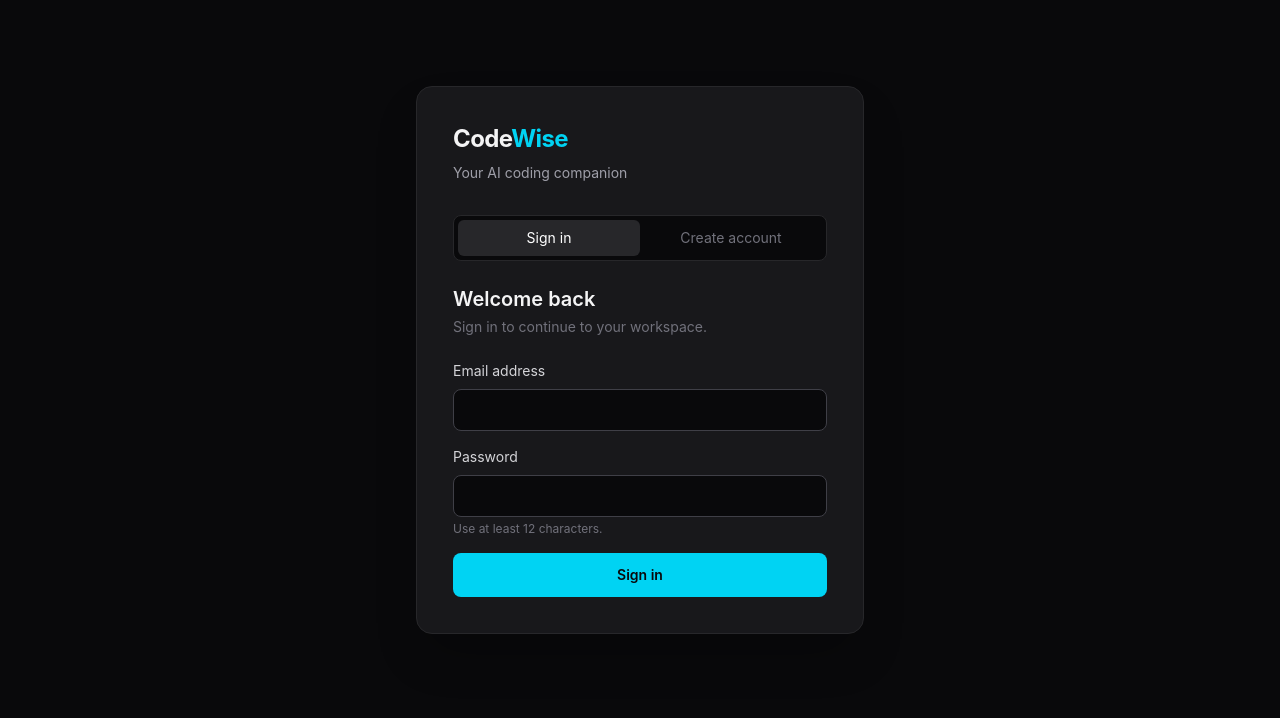
Test case: CodeWise analysis flow › creates an account and only displays analysis after signup succeeds
Click the button "Create account" at [731, 238], box [640, 220, 822, 256]
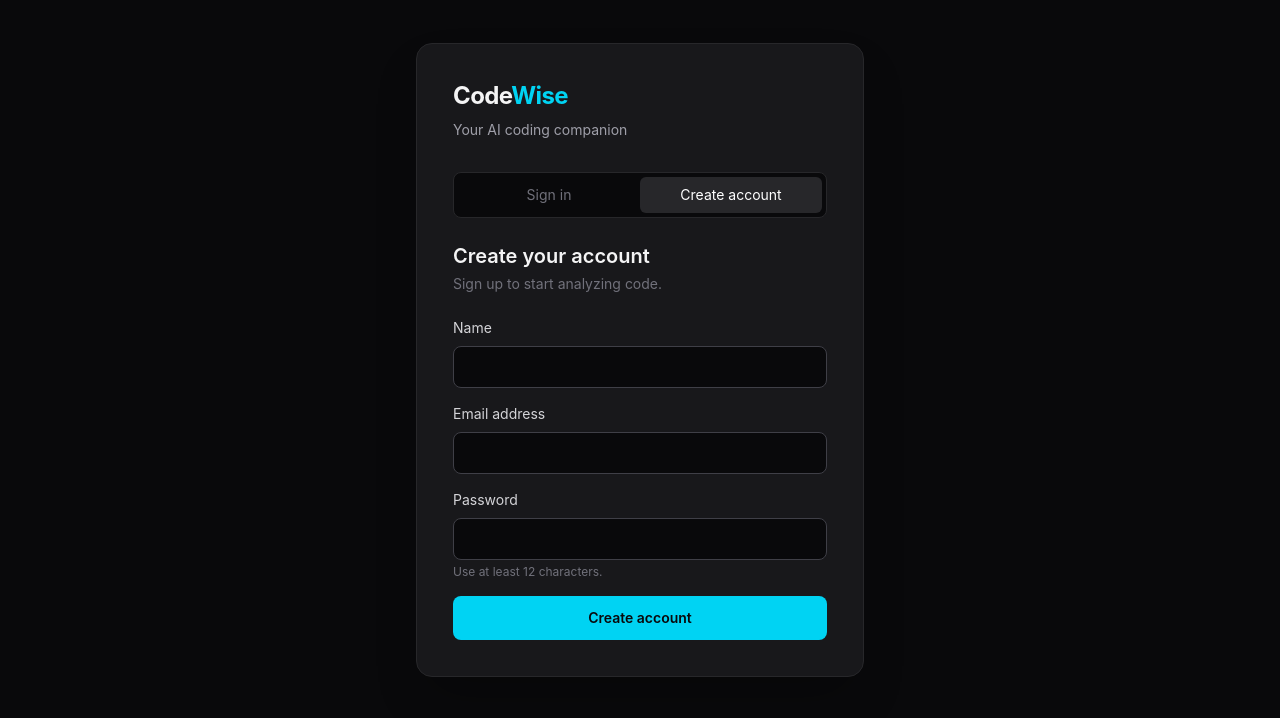
Type "CodeWise Dev" into the field labelled "Name" at [640, 367], box [453, 346, 827, 388]
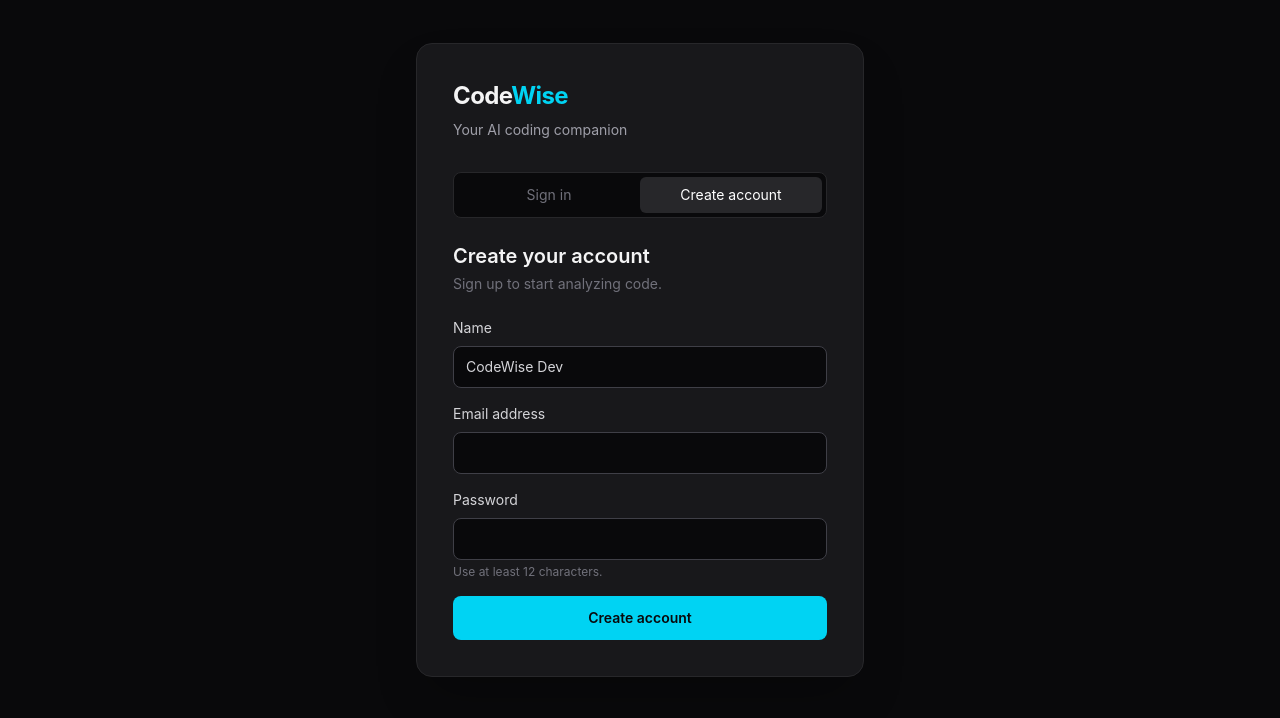
Type "dev@example.com" into the field labelled "Email address" at [640, 453], box [453, 432, 827, 474]
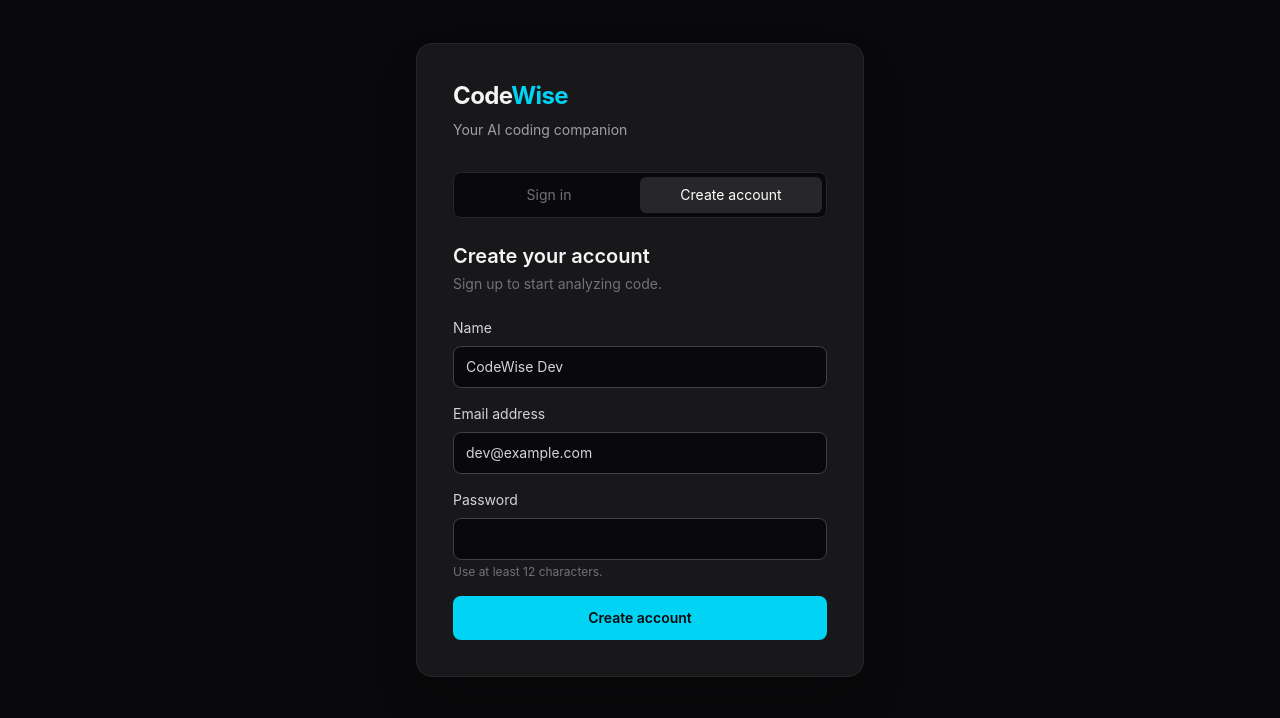
Type "a-strong-password-12" into the password field labelled "Password Use at least 12 characters." at [640, 539], box [453, 518, 827, 560]
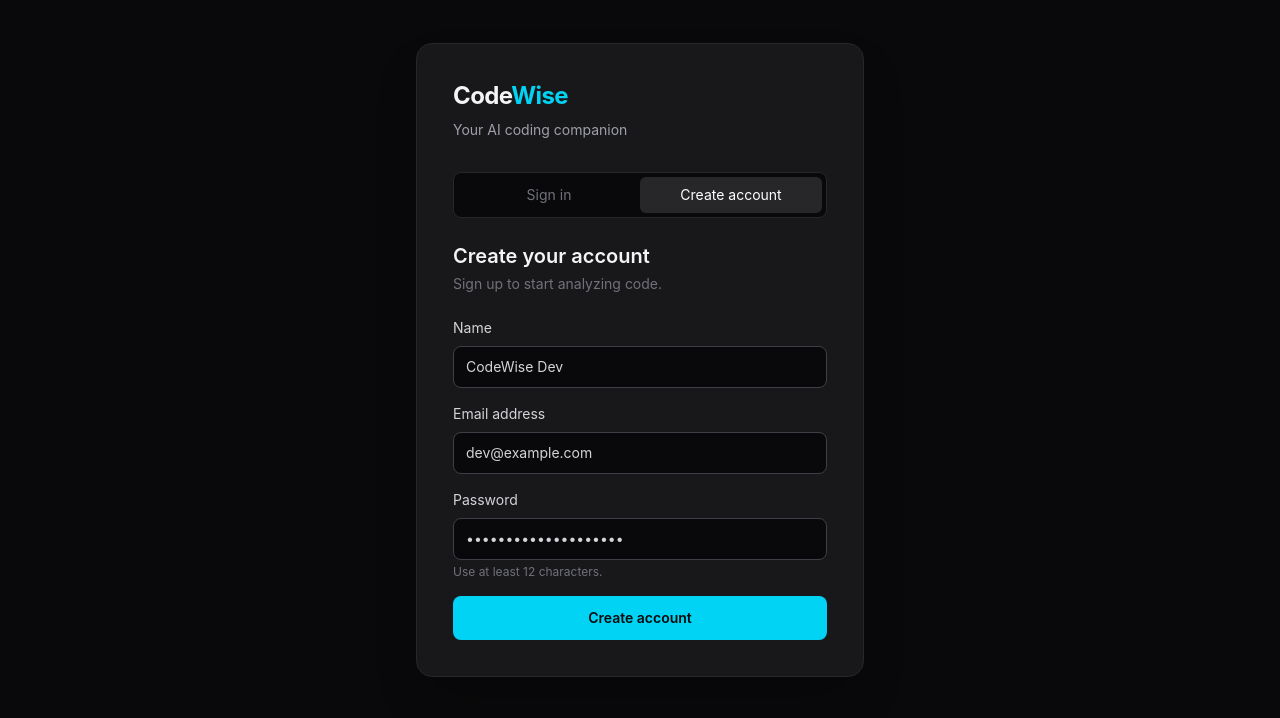
Click the button "Create account" below "Use at least 12 characters." at [640, 618], box [453, 596, 827, 640]
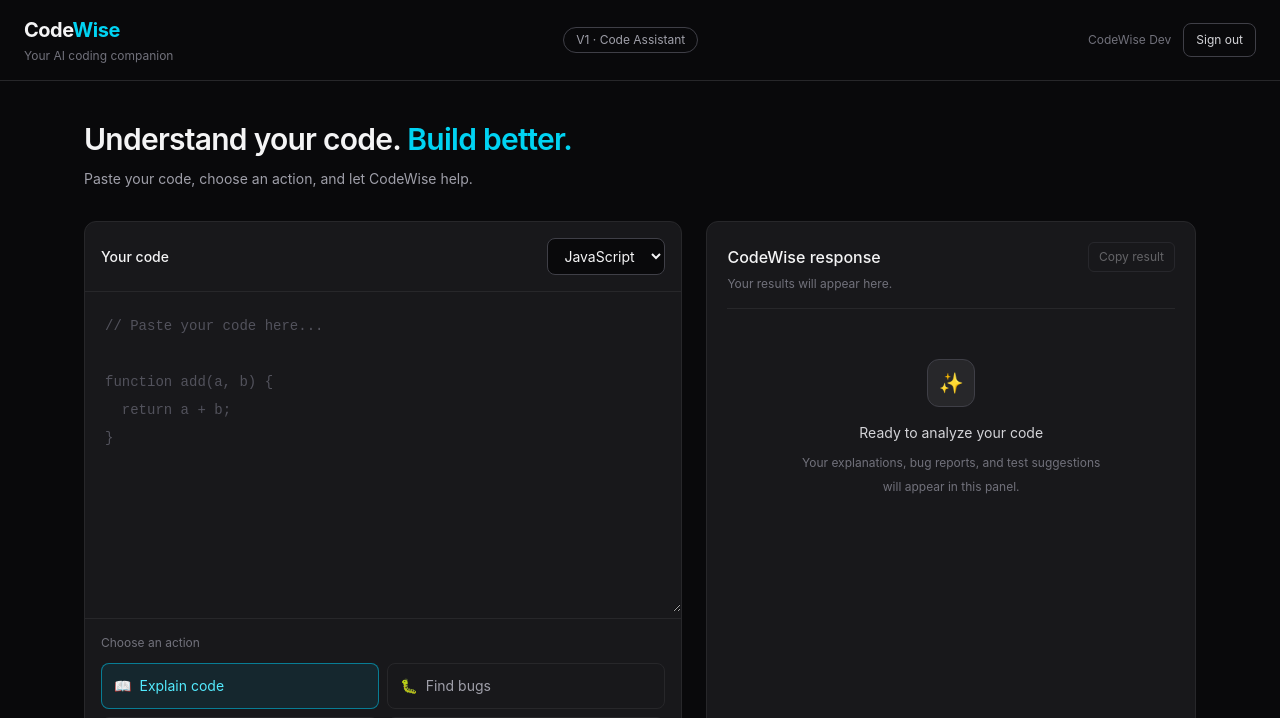
Result: the text box named "Code to analyze" is shown at [85, 292, 681, 612]
